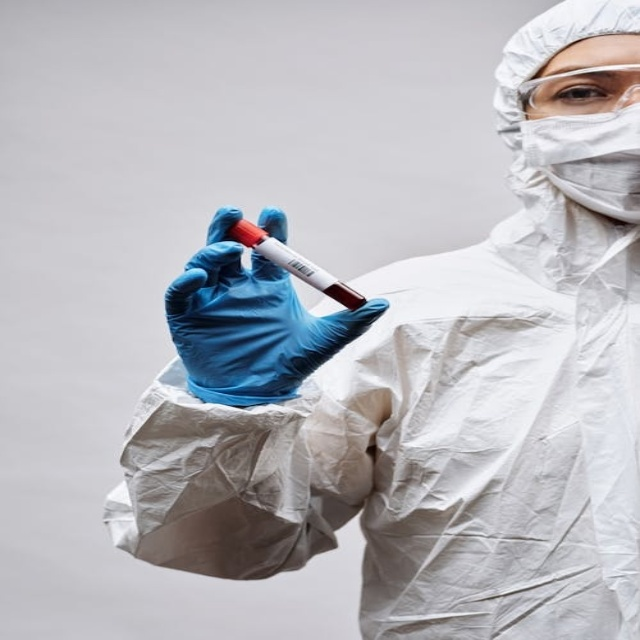Gafas: (511, 62, 640, 119)
Guantes: (166, 206, 389, 408)
Mascara: (514, 91, 639, 223)
